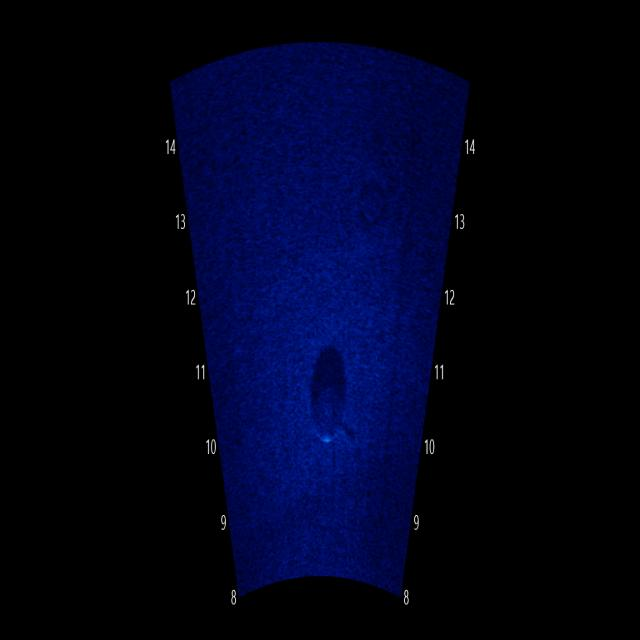circle: (304, 315, 362, 467)
